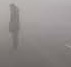person: (6, 2, 24, 51)
